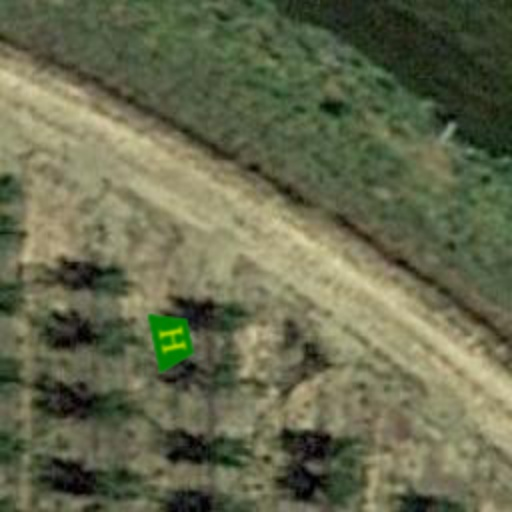trapezoid: (134, 302, 210, 378)
